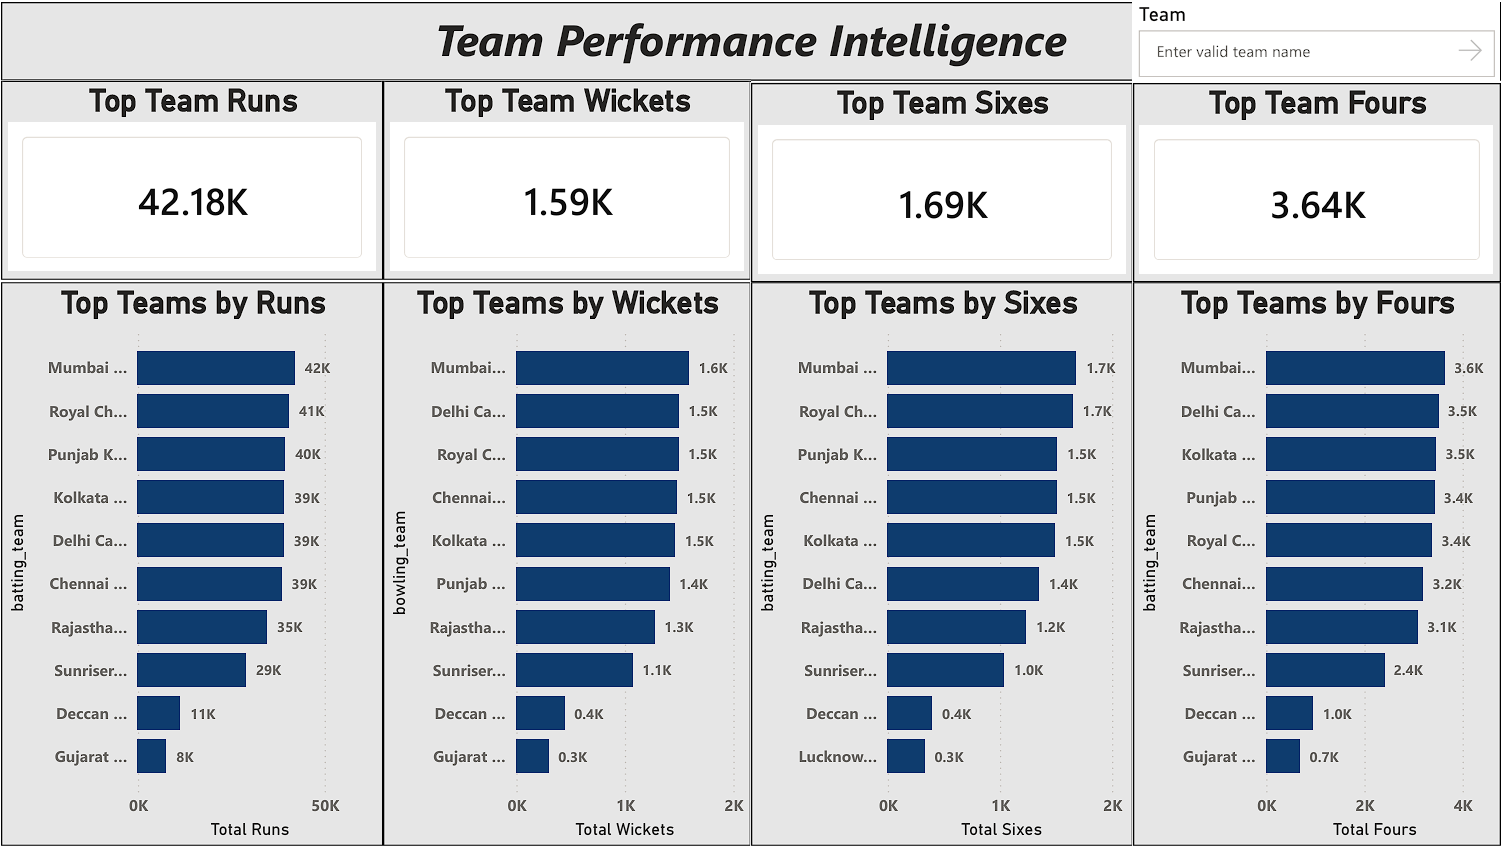

What the dashboard file says about the page in this screenshot:
{"tool":"powerbi","page":{"name":"Page 3","canvas":[1280,720],"ordinal":2},"visuals":[{"type":"textbox","box":[0,0,1280,67.1],"z":0},{"type":"cardVisual","title":"Top Team Runs","fields":{"Data":["deliveries_cleaned.Highest Team Runs"]},"box":[0,67.1,325.7,170],"z":1},{"type":"cardVisual","title":"Top Team Wickets","fields":{"Data":["deliveries_cleaned.Highest Team Wickets"]},"box":[325.7,67.1,314.3,170],"z":2},{"type":"cardVisual","title":"Top Team Sixes","fields":{"Data":["deliveries_cleaned.Highest Team Sixes"]},"box":[640,68.6,325.7,170],"z":3},{"type":"cardVisual","title":"Top Team Fours","fields":{"Data":["deliveries_cleaned.Highest Team Fours"]},"box":[965.7,68.6,314.3,170],"z":4},{"type":"textSlicer","title":"Team","box":[965.7,0,314.3,68.6],"z":5},{"type":"barChart","title":"Top Teams by Runs","fields":{"Category":["deliveries_cleaned.batting_team"],"Y":["Sum(deliveries_cleaned.total_runs)"]},"box":[0,238.6,325.7,481.4],"z":6},{"type":"barChart","title":"Top Teams by Wickets","fields":{"Category":["deliveries_cleaned.bowling_team"],"Y":["Sum(deliveries_cleaned.is_wicket)"]},"box":[326,239,314,481],"z":7},{"type":"barChart","title":"Top Teams by Sixes","fields":{"Category":["deliveries_cleaned.batting_team"],"Y":["CountNonNull(deliveries_cleaned.batsman_runs)"]},"box":[640,239,326,481],"z":8},{"type":"barChart","title":"Top Teams by Fours","fields":{"Category":["deliveries_cleaned.batting_team"],"Y":["CountNonNull(deliveries_cleaned.batsman_runs)"]},"box":[966,239,314,481],"z":9}]}

Visuals, with their boxes in screenshot pixels (x1, y1, x2, y2), scaled from the page's 1280x720 canvas onto the 1501x846 screenshot:
textbox: bbox=(0, 0, 1500, 79)
"Top Team Runs" cardVisual: bbox=(0, 79, 382, 279)
"Top Team Wickets" cardVisual: bbox=(382, 79, 750, 279)
"Top Team Sixes" cardVisual: bbox=(750, 81, 1132, 280)
"Top Team Fours" cardVisual: bbox=(1132, 81, 1500, 280)
"Team" textSlicer: bbox=(1132, 0, 1500, 81)
"Top Teams by Runs" barChart: bbox=(0, 280, 382, 845)
"Top Teams by Wickets" barChart: bbox=(382, 281, 750, 845)
"Top Teams by Sixes" barChart: bbox=(750, 281, 1133, 845)
"Top Teams by Fours" barChart: bbox=(1133, 281, 1500, 845)
